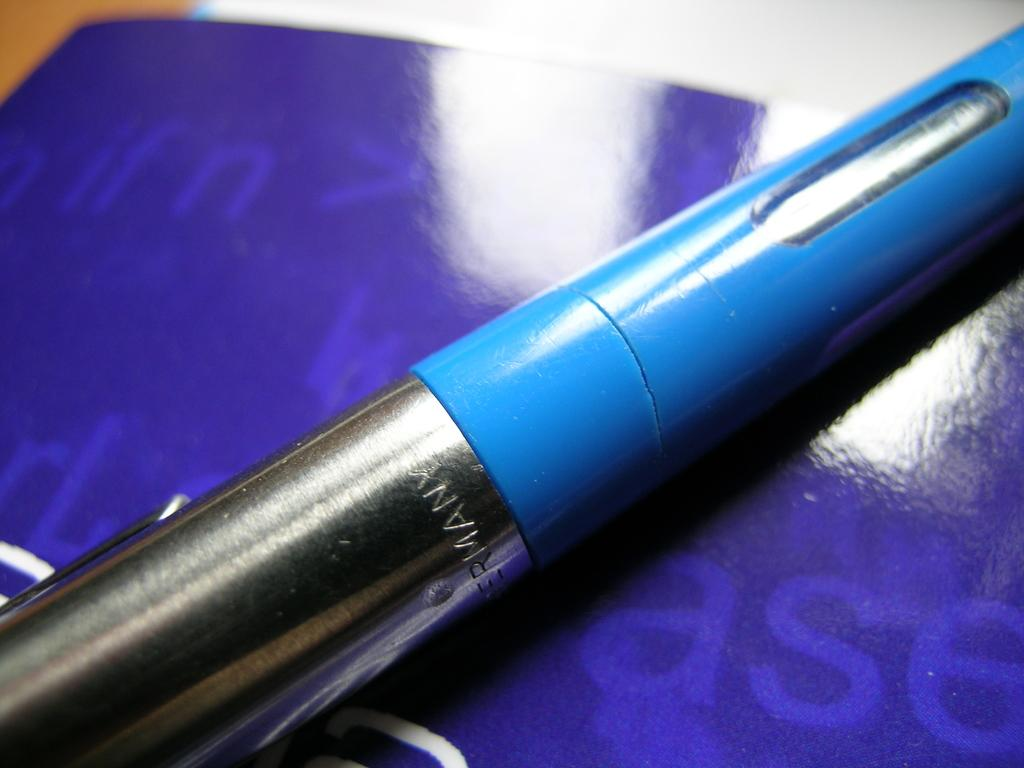pen: (1, 10, 1023, 767)
